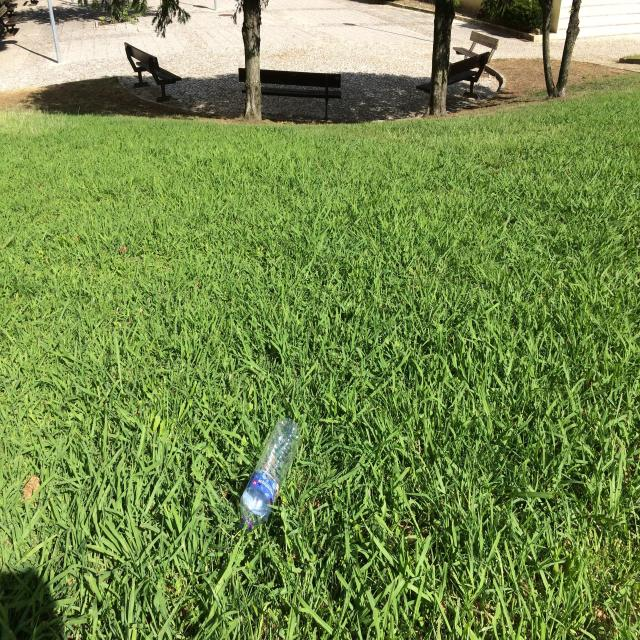litter: (240, 417, 300, 534)
